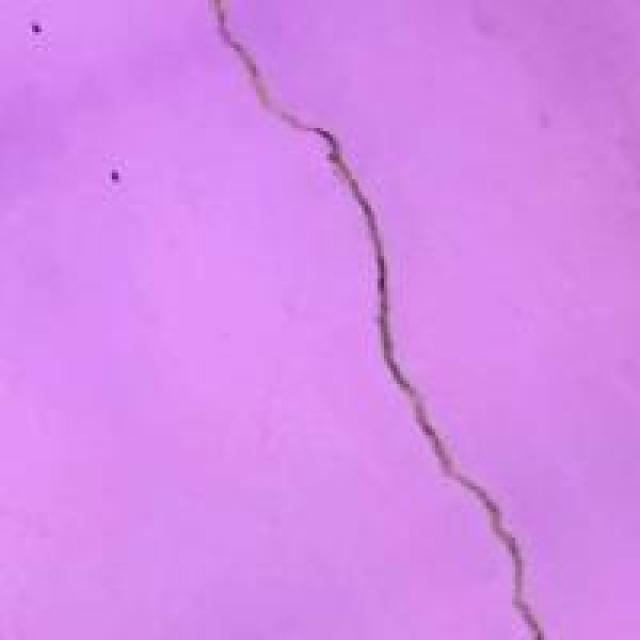crack: (205, 6, 570, 637)
